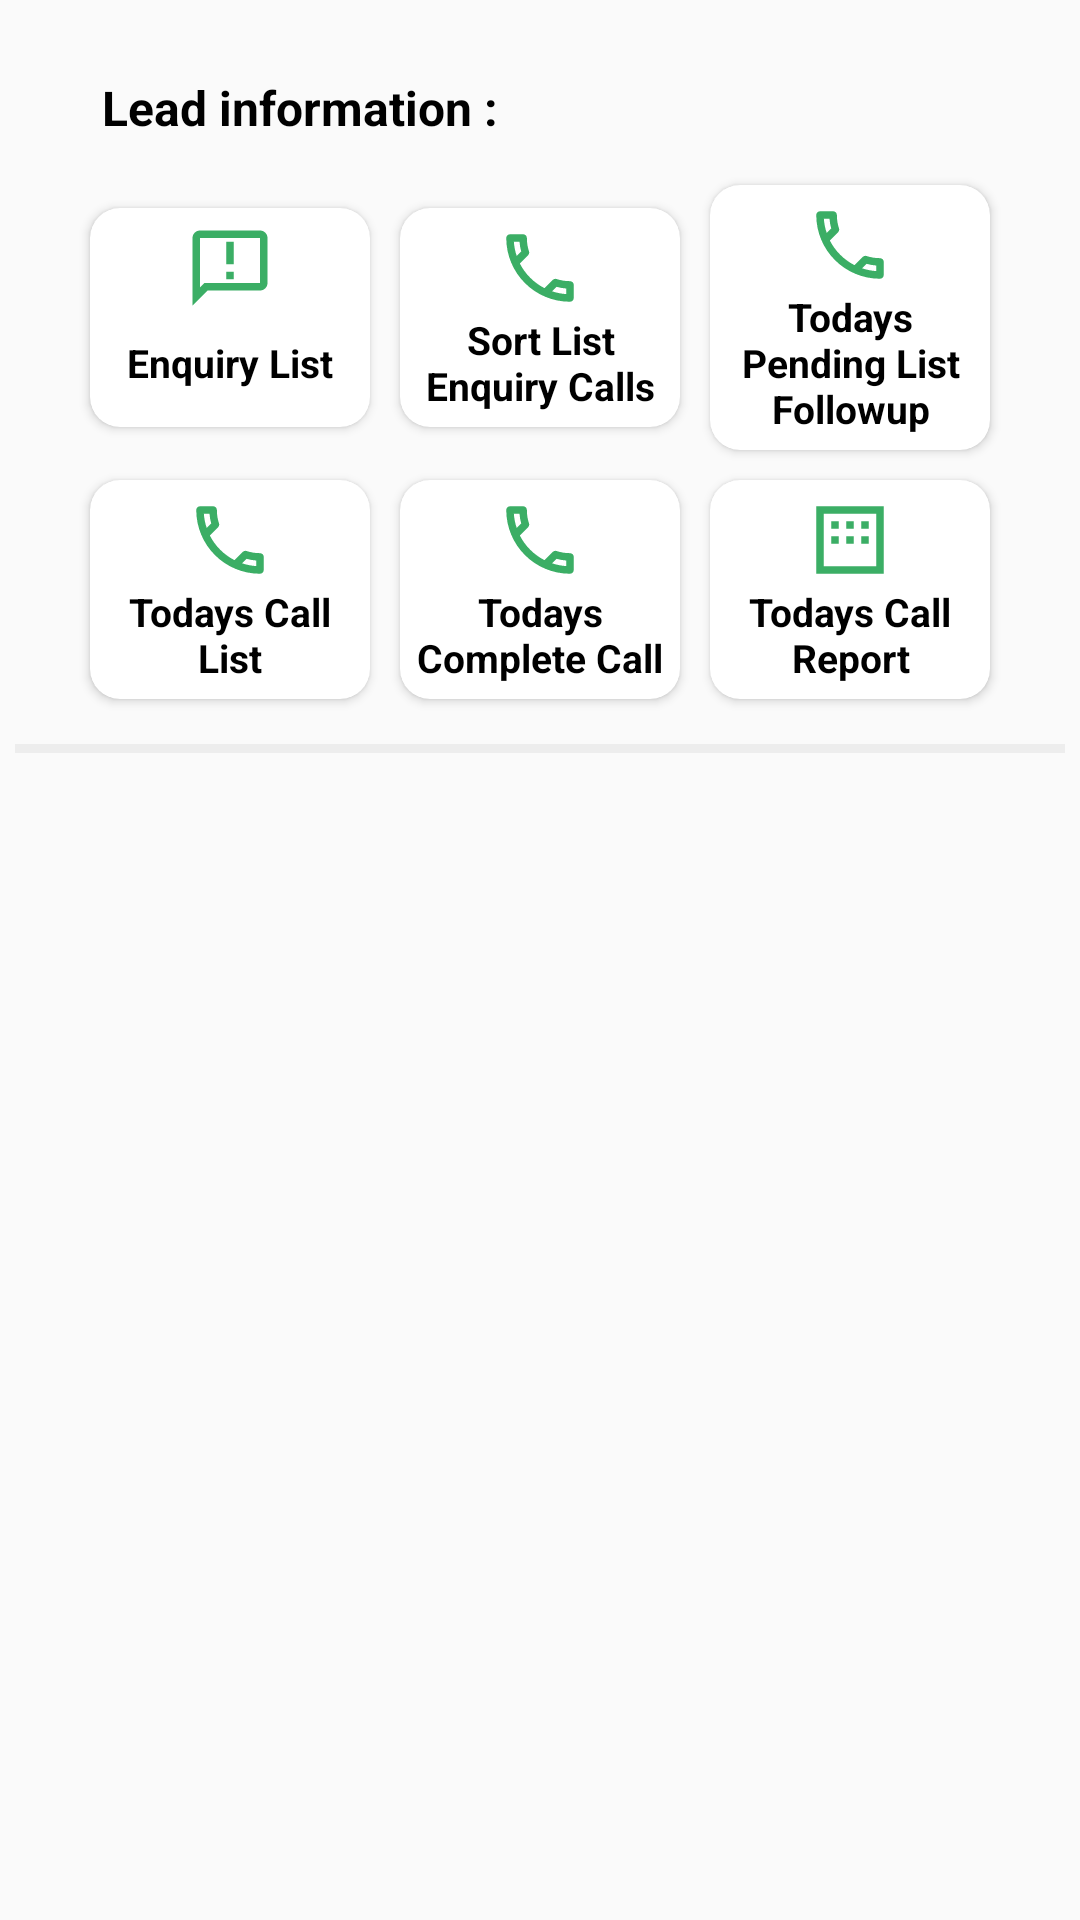

Where icons sit on this 1080*1920 app screen, as (x1, y1, x2, y2):
announcement: (192, 230, 268, 306)
local phone: (816, 211, 884, 279), (506, 234, 574, 302), (196, 506, 264, 574), (506, 506, 574, 574)
